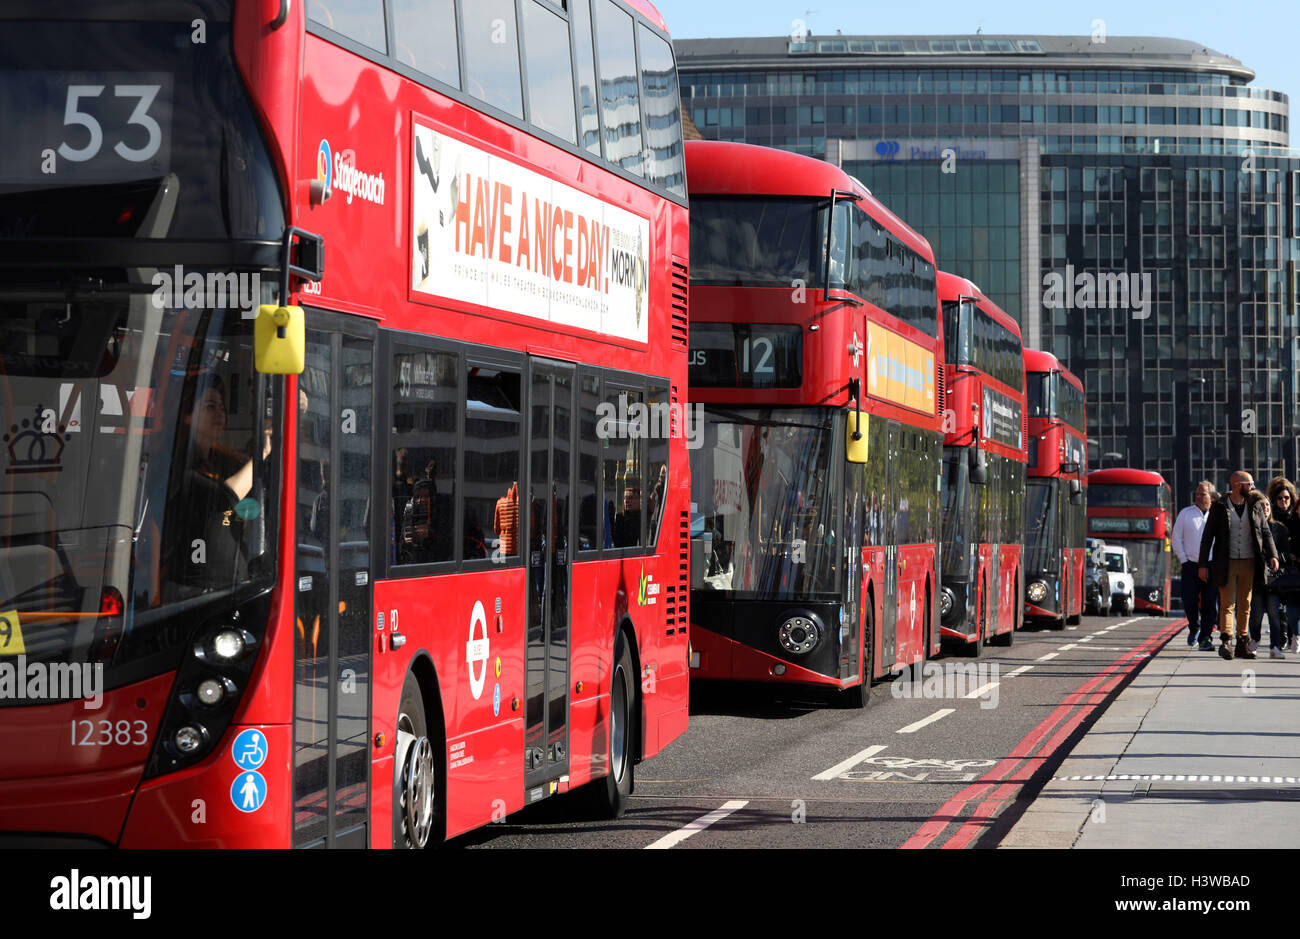bus: (8, 17, 682, 851), (697, 138, 945, 690), (941, 266, 1030, 651), (1027, 354, 1086, 631), (1090, 468, 1170, 610)
